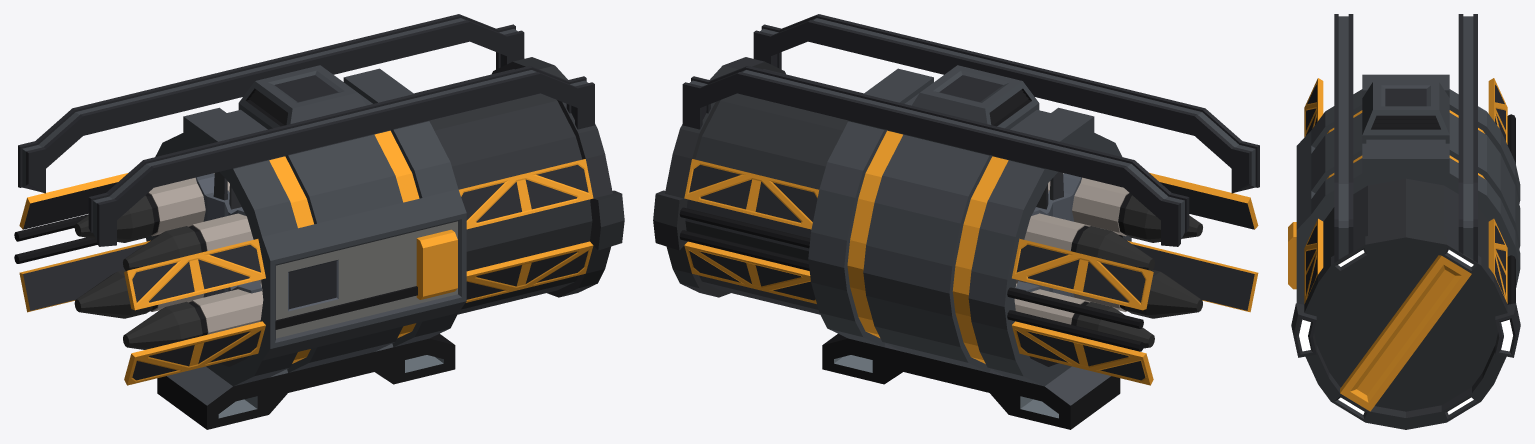
The model's file is SM_Device_04.glb.
The picture shows the model from 3 angles, left to right: view 1: azimuth 30°, elevation 25°; view 2: azimuth 150°, elevation 25°; view 3: azimuth 270°, elevation 25°; orthographic projection. The views are drawn at different scales.
Visible parts, largest first — view 1: SM_Device_04, Cylinder.001, Cylinder.003, Cylinder.002; view 2: SM_Device_04, Cylinder.001, Cylinder.003, Cylinder.002; view 3: Cylinder.001, SM_Device_04.
Part boxes in pixels (bbox=[...]): SM_Device_04: bbox=[14, 14, 594, 429]; Cylinder.001: bbox=[414, 57, 624, 314]; Cylinder.003: bbox=[74, 173, 263, 349]; Cylinder.002: bbox=[196, 172, 261, 297]; SM_Device_04: bbox=[679, 14, 1259, 429]; Cylinder.001: bbox=[653, 57, 863, 314]; Cylinder.003: bbox=[1014, 173, 1202, 348]; Cylinder.002: bbox=[1015, 172, 1081, 297]; Cylinder.001: bbox=[1291, 178, 1520, 429]; SM_Device_04: bbox=[1288, 14, 1520, 304].
Size of the model in its own units: 5.64 by 3.15 by 2.56.
Materials: 2 (1 with a texture image).
